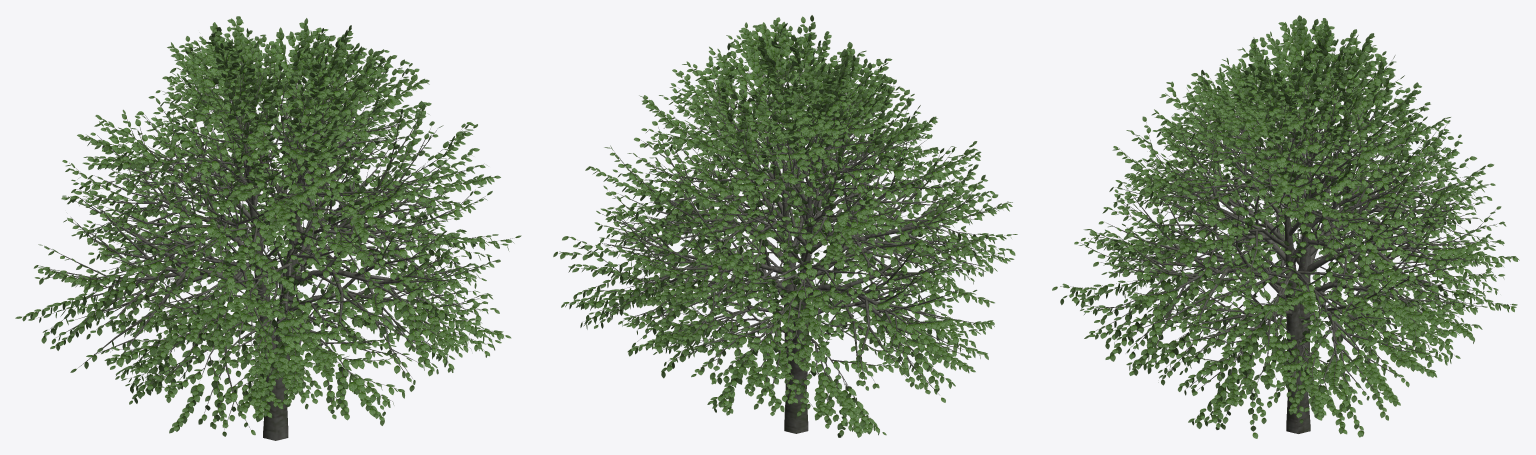
The picture shows the model from 3 angles, left to right: view 1: azimuth 30°, elevation 25°; view 2: azimuth 150°, elevation 25°; view 3: azimuth 270°, elevation 25°; orthographic projection. The views are drawn at different scales.
Parts seen in each view (by area): view 1: _Beech_Leaves_, _Beech_Trunk_; view 2: _Beech_Leaves_, _Beech_Trunk_; view 3: _Beech_Leaves_, _Beech_Trunk_.
Part boxes in pixels (left/top/right/bottom): _Beech_Leaves_: left=15, top=16, right=521, bottom=436; _Beech_Trunk_: left=23, top=26, right=512, bottom=440; _Beech_Leaves_: left=553, top=15, right=1017, bottom=437; _Beech_Trunk_: left=559, top=22, right=1012, bottom=433; _Beech_Leaves_: left=1052, top=15, right=1519, bottom=438; _Beech_Trunk_: left=1060, top=23, right=1515, bottom=433.
Bounding box in the file's own units: 14.09 × 12.43 × 13.6.
Materials: 2 (2 with a texture image).
